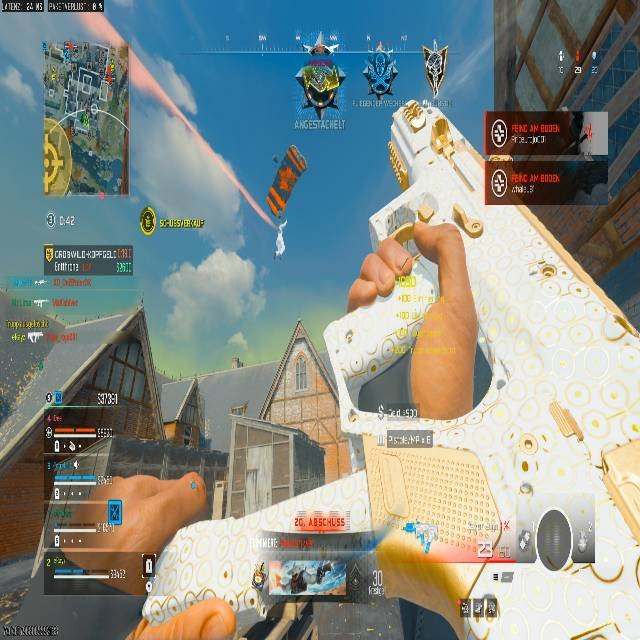head: (374, 54, 386, 68)
player: (348, 97, 486, 320), (294, 50, 346, 113), (362, 54, 397, 96), (231, 354, 240, 368)
